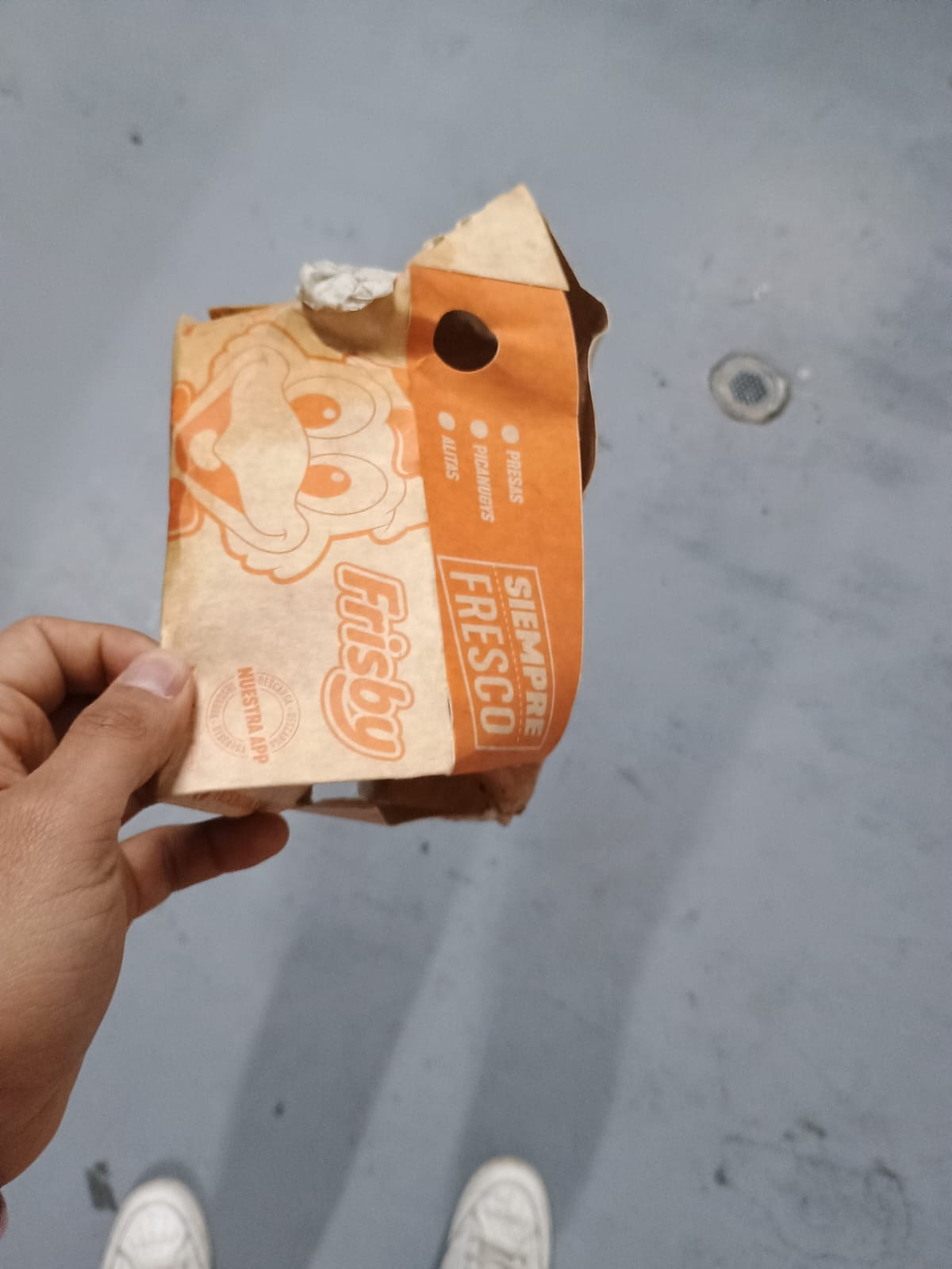Carton: (159, 182, 588, 807)
